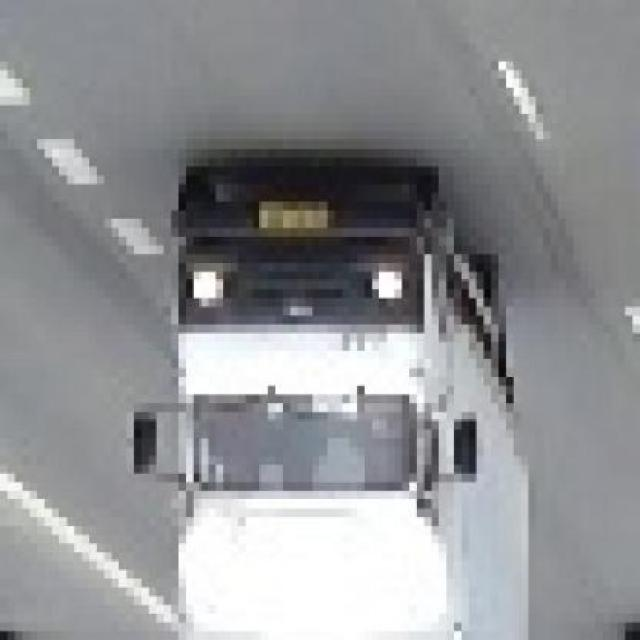truck: (143, 167, 544, 640)
